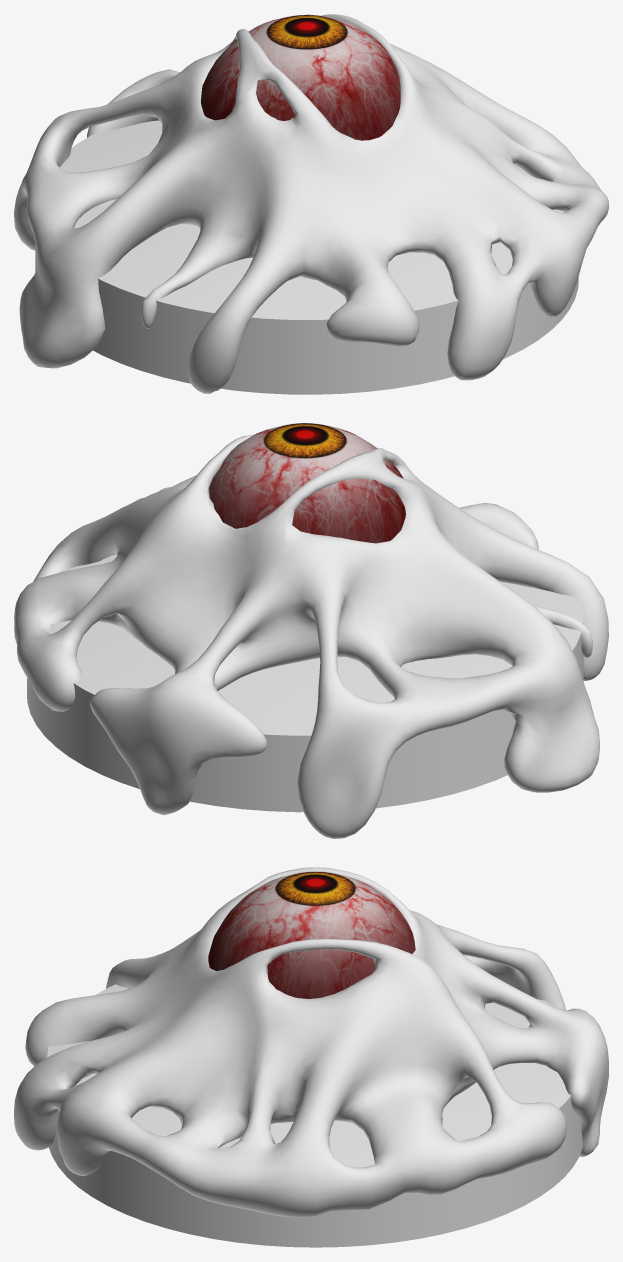
The model's file is Laser_Moove.fbx.
The picture shows the model from 3 angles, top to bottom: view 1: azimuth 30°, elevation 25°; view 2: azimuth 150°, elevation 25°; view 3: azimuth 270°, elevation 25°; orthographic projection. The views are drawn at different scales.
Parts seen in each view (by area): view 1: Laser_Blob8MOOVE.001, Laser_Blob8MOOVE.002, Sphere; view 2: Laser_Blob8MOOVE.001, Laser_Blob8MOOVE.002, Sphere; view 3: Laser_Blob8MOOVE.001, Laser_Blob8MOOVE.002, Sphere.
Boxes of the visible parts, box(x1,y1,x2,y2) form: Laser_Blob8MOOVE.001: box(14, 14, 608, 393); Laser_Blob8MOOVE.002: box(35, 120, 578, 394); Sphere: box(201, 14, 400, 140); Laser_Blob8MOOVE.001: box(14, 434, 608, 838); Laser_Blob8MOOVE.002: box(27, 554, 583, 812); Sphere: box(209, 423, 405, 543); Laser_Blob8MOOVE.001: box(14, 867, 608, 1217); Laser_Blob8MOOVE.002: box(47, 984, 583, 1247); Sphere: box(208, 871, 415, 998).
Bounding box in the file's own units: 133 × 65.97 × 130.
3 materials, 1 textured.
